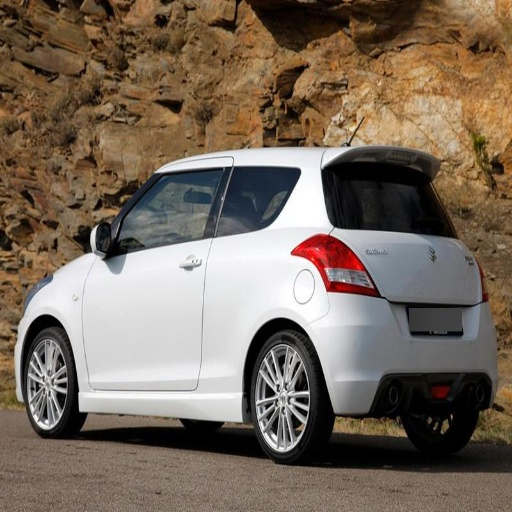back_bumper: (309, 293, 497, 414)
back_glass: (335, 177, 446, 235)
back_left_door: (198, 163, 271, 391)
tailgate: (356, 235, 482, 333)
